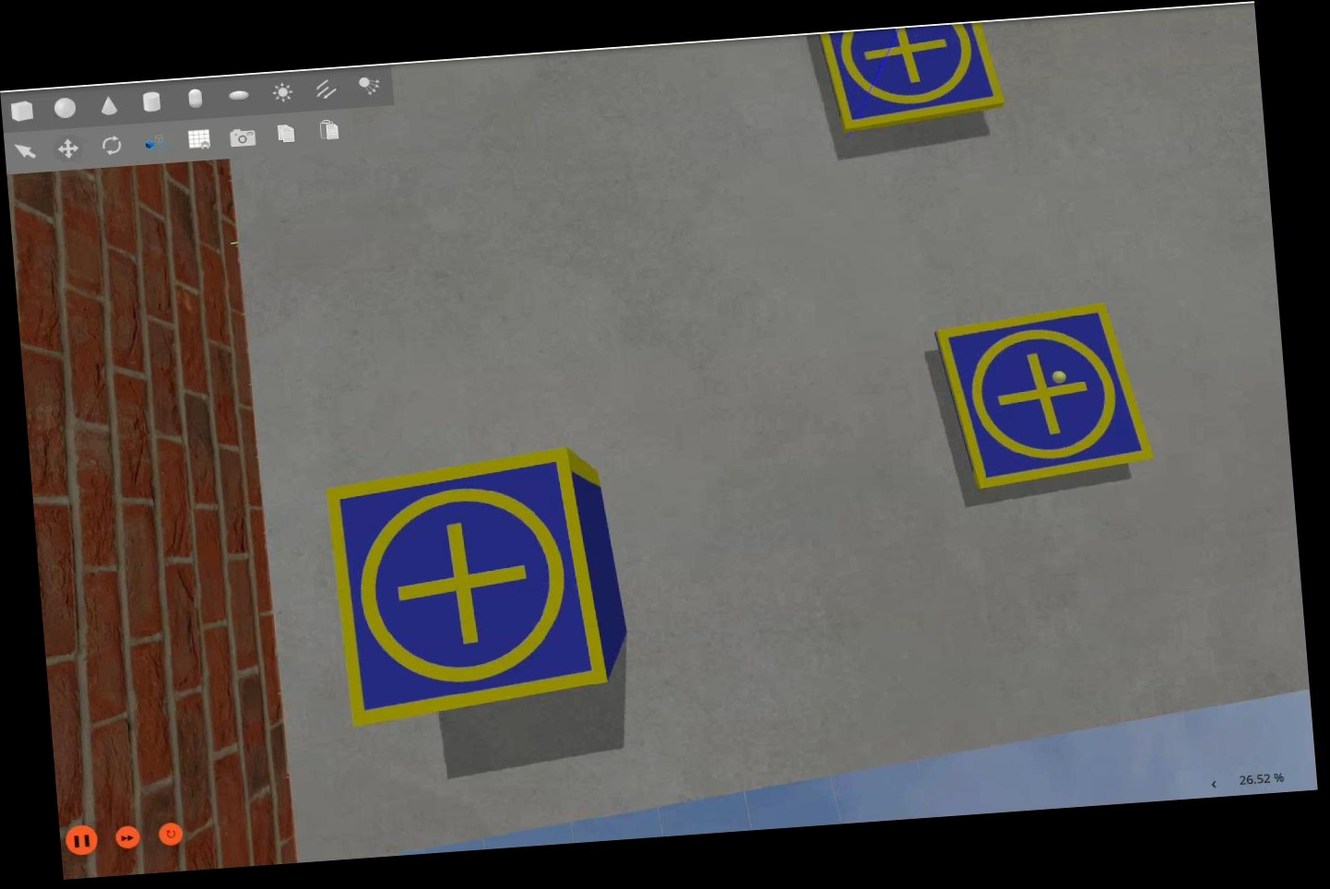small_base: (323, 446, 616, 729), (932, 299, 1160, 494), (820, 19, 1008, 133)
